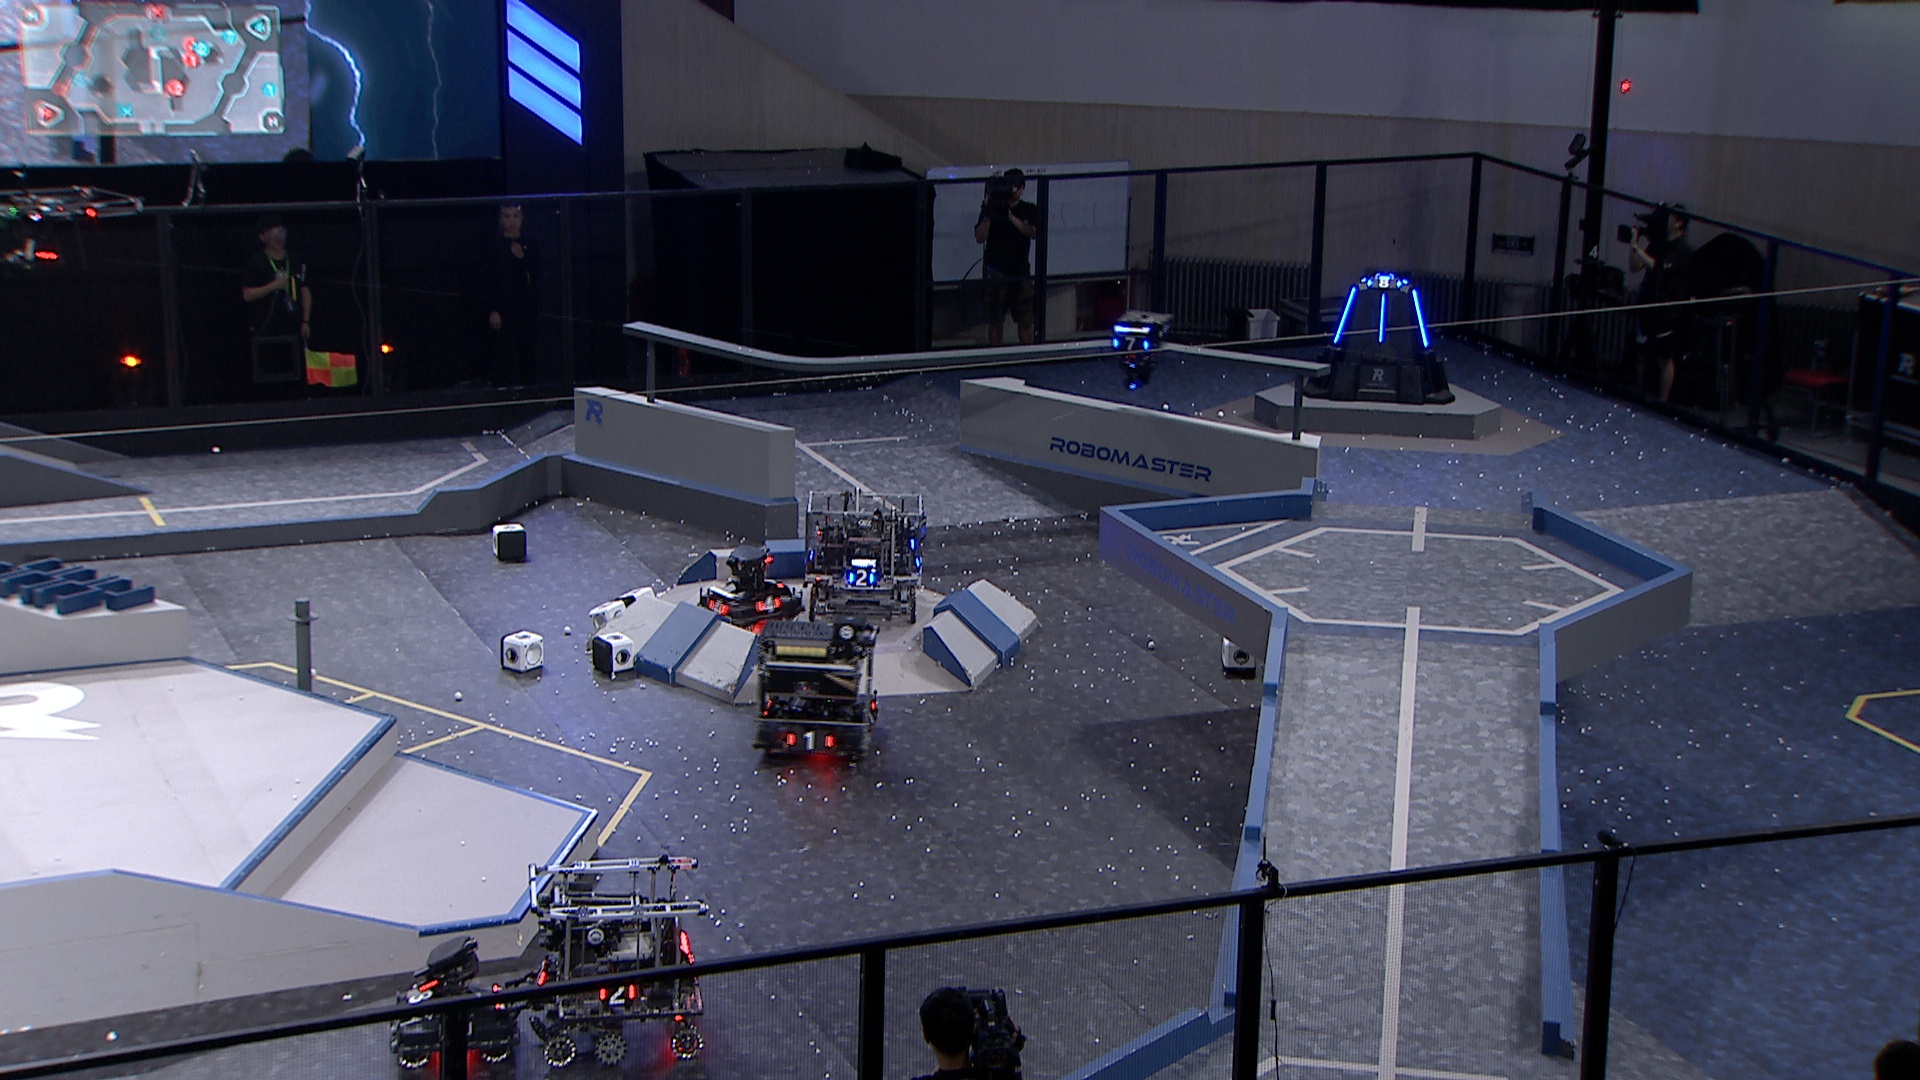armor: (1332, 286, 1357, 344), (1410, 286, 1429, 351), (781, 731, 837, 752), (596, 982, 640, 1007), (1375, 291, 1389, 345), (401, 988, 436, 1007), (1110, 338, 1154, 353), (847, 567, 877, 589), (531, 956, 551, 988), (1366, 276, 1404, 291), (862, 698, 880, 731), (705, 597, 731, 618), (752, 597, 782, 615), (760, 575, 785, 589)
base: (1302, 273, 1457, 409)
car: (517, 855, 709, 1071), (749, 618, 884, 766), (381, 934, 520, 1069), (799, 488, 930, 628), (695, 545, 803, 632)
watcher: (1106, 309, 1178, 392)
